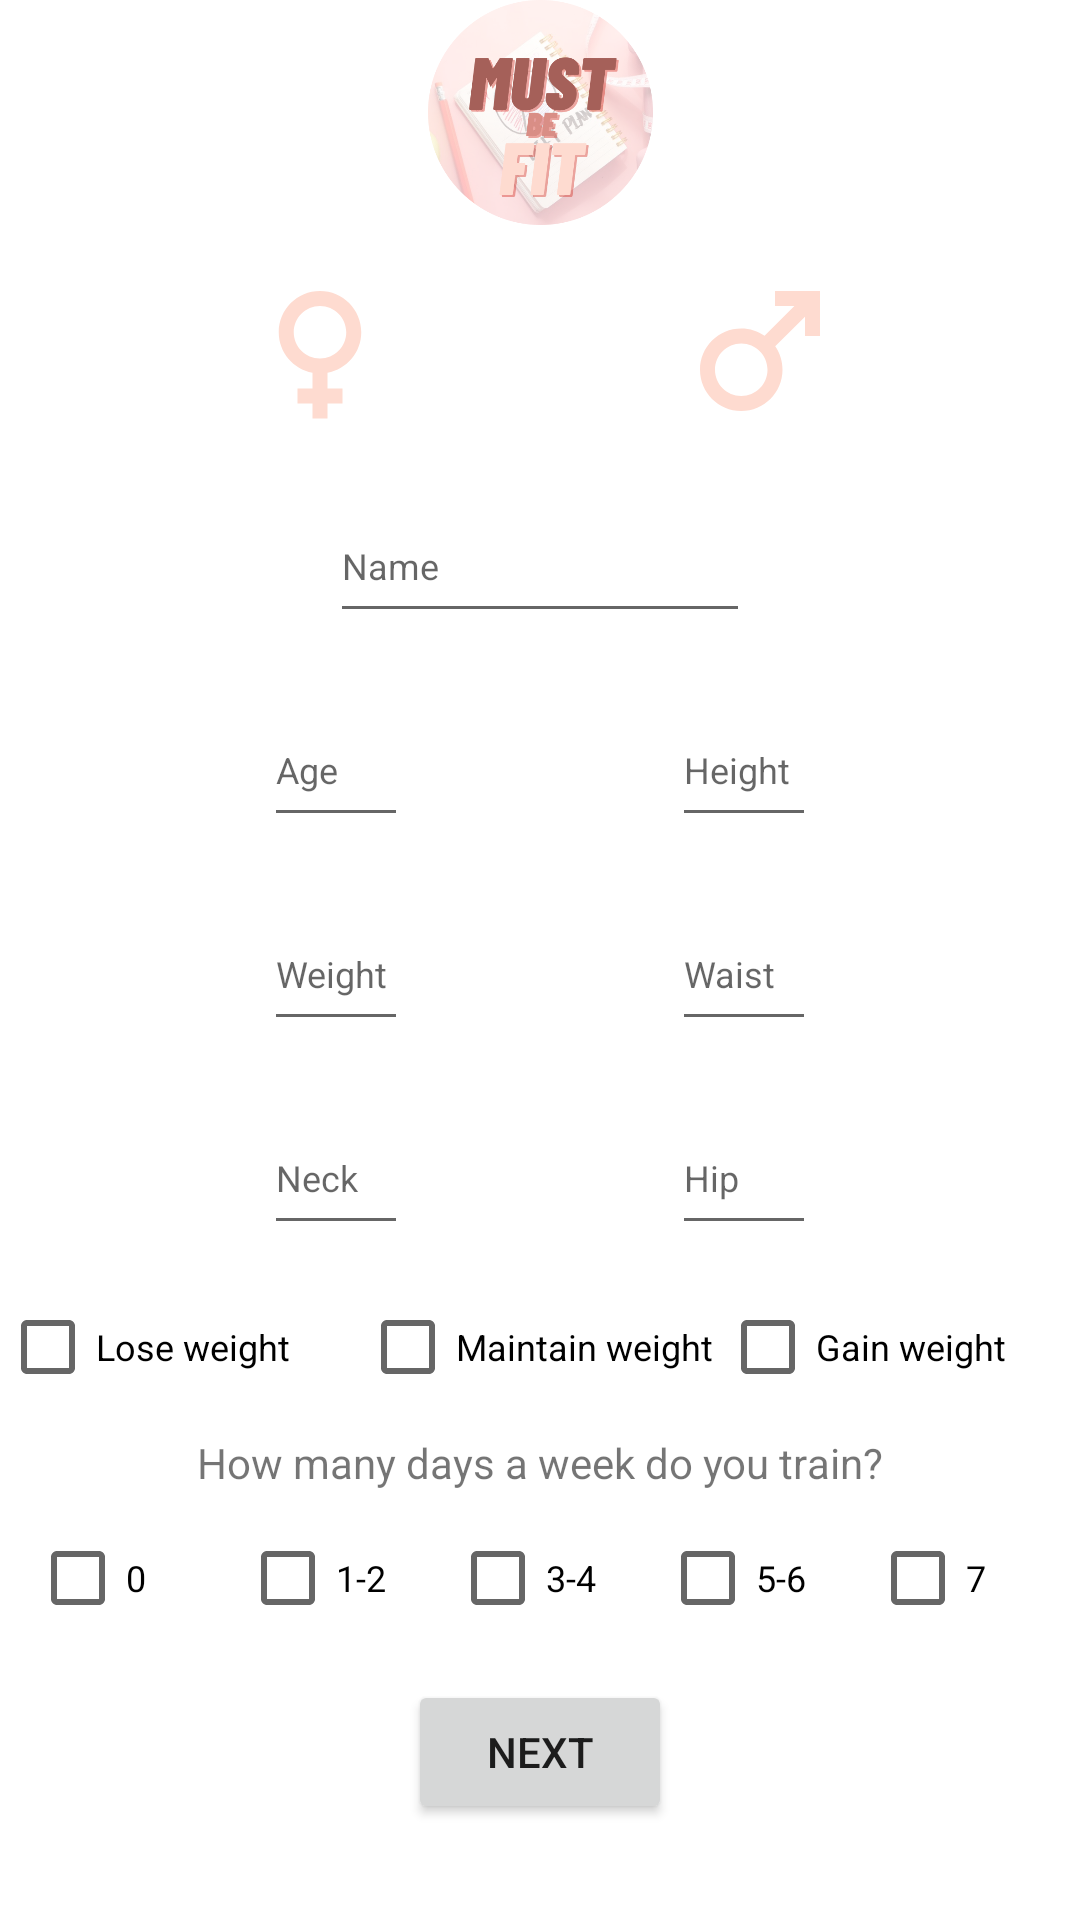

Named icons in this screenshot (1080*1920) and their bounding boxes, (x1, y1, x2, y2):
female: (279, 291, 361, 418)
male: (700, 291, 820, 411)
